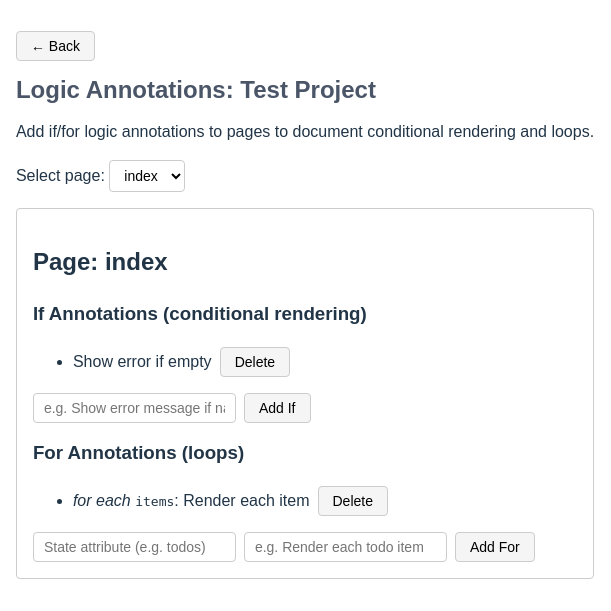
Scenario: LogicAnnotations adds a new for annotation
Type "entries" into the field with placeholder "State attribute (e.g. todos)" at (134, 547), box [33,532,236,562]
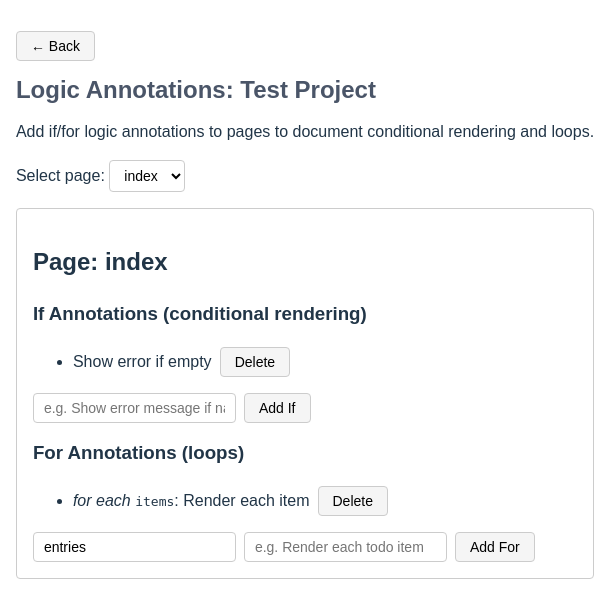
Type "Show each entry" into the field with placeholder "e.g. Render each todo item" at (345, 547), box [244,532,447,562]
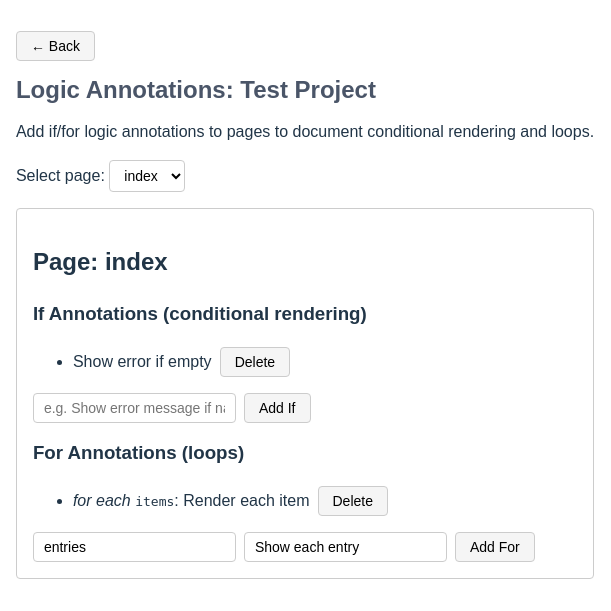
Click the button "Add For" at (495, 547), box [455,532,535,562]
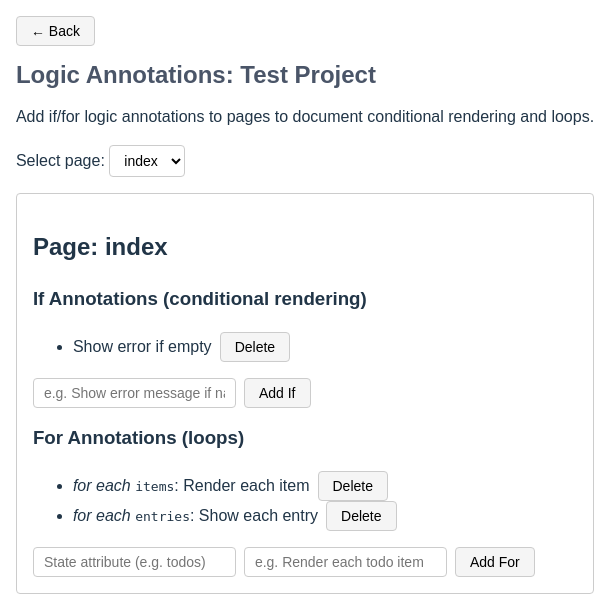
Expected: the list item "for each entries: Show each entry Delete" is shown, [73,501,396,531]
